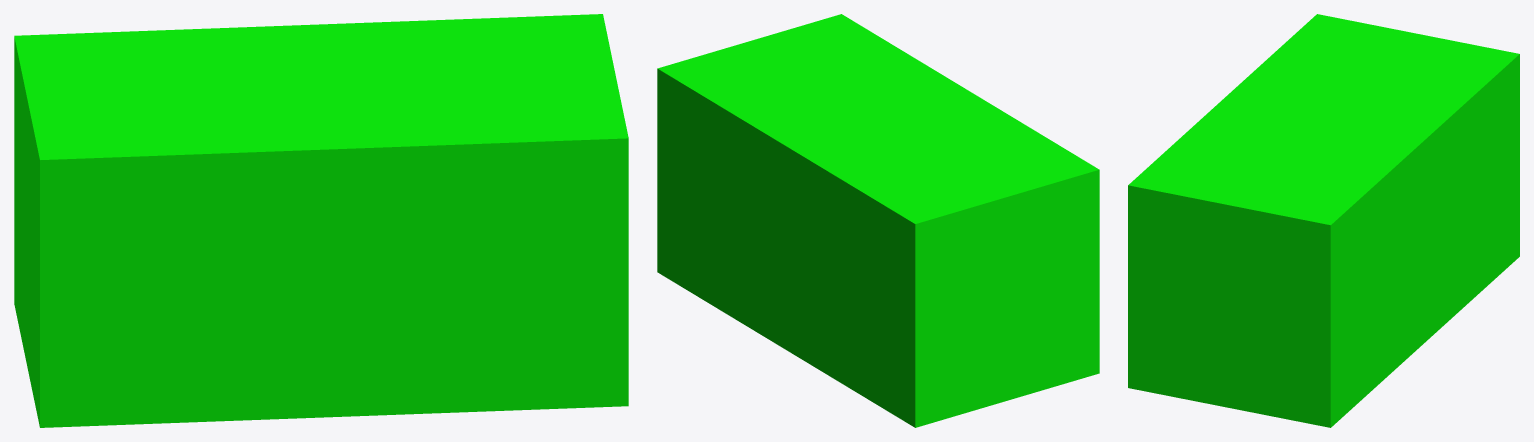
File: GreenCuboid0622.FBX
3 views of the same model, side by side, from view 1: azimuth 30°, elevation 25°; view 2: azimuth 150°, elevation 25°; view 3: azimuth 270°, elevation 25° (orthographic). The views are drawn at different scales.
Visible parts, largest first — view 1: GreenCuboid; view 2: GreenCuboid; view 3: GreenCuboid.
Part boxes in pixels (x1,y1,x2,y2): GreenCuboid: (14,14,628,427); GreenCuboid: (657,14,1099,427); GreenCuboid: (1128,14,1519,427).
Size of the model in its own units: 11.18 by 5 by 8.76.
